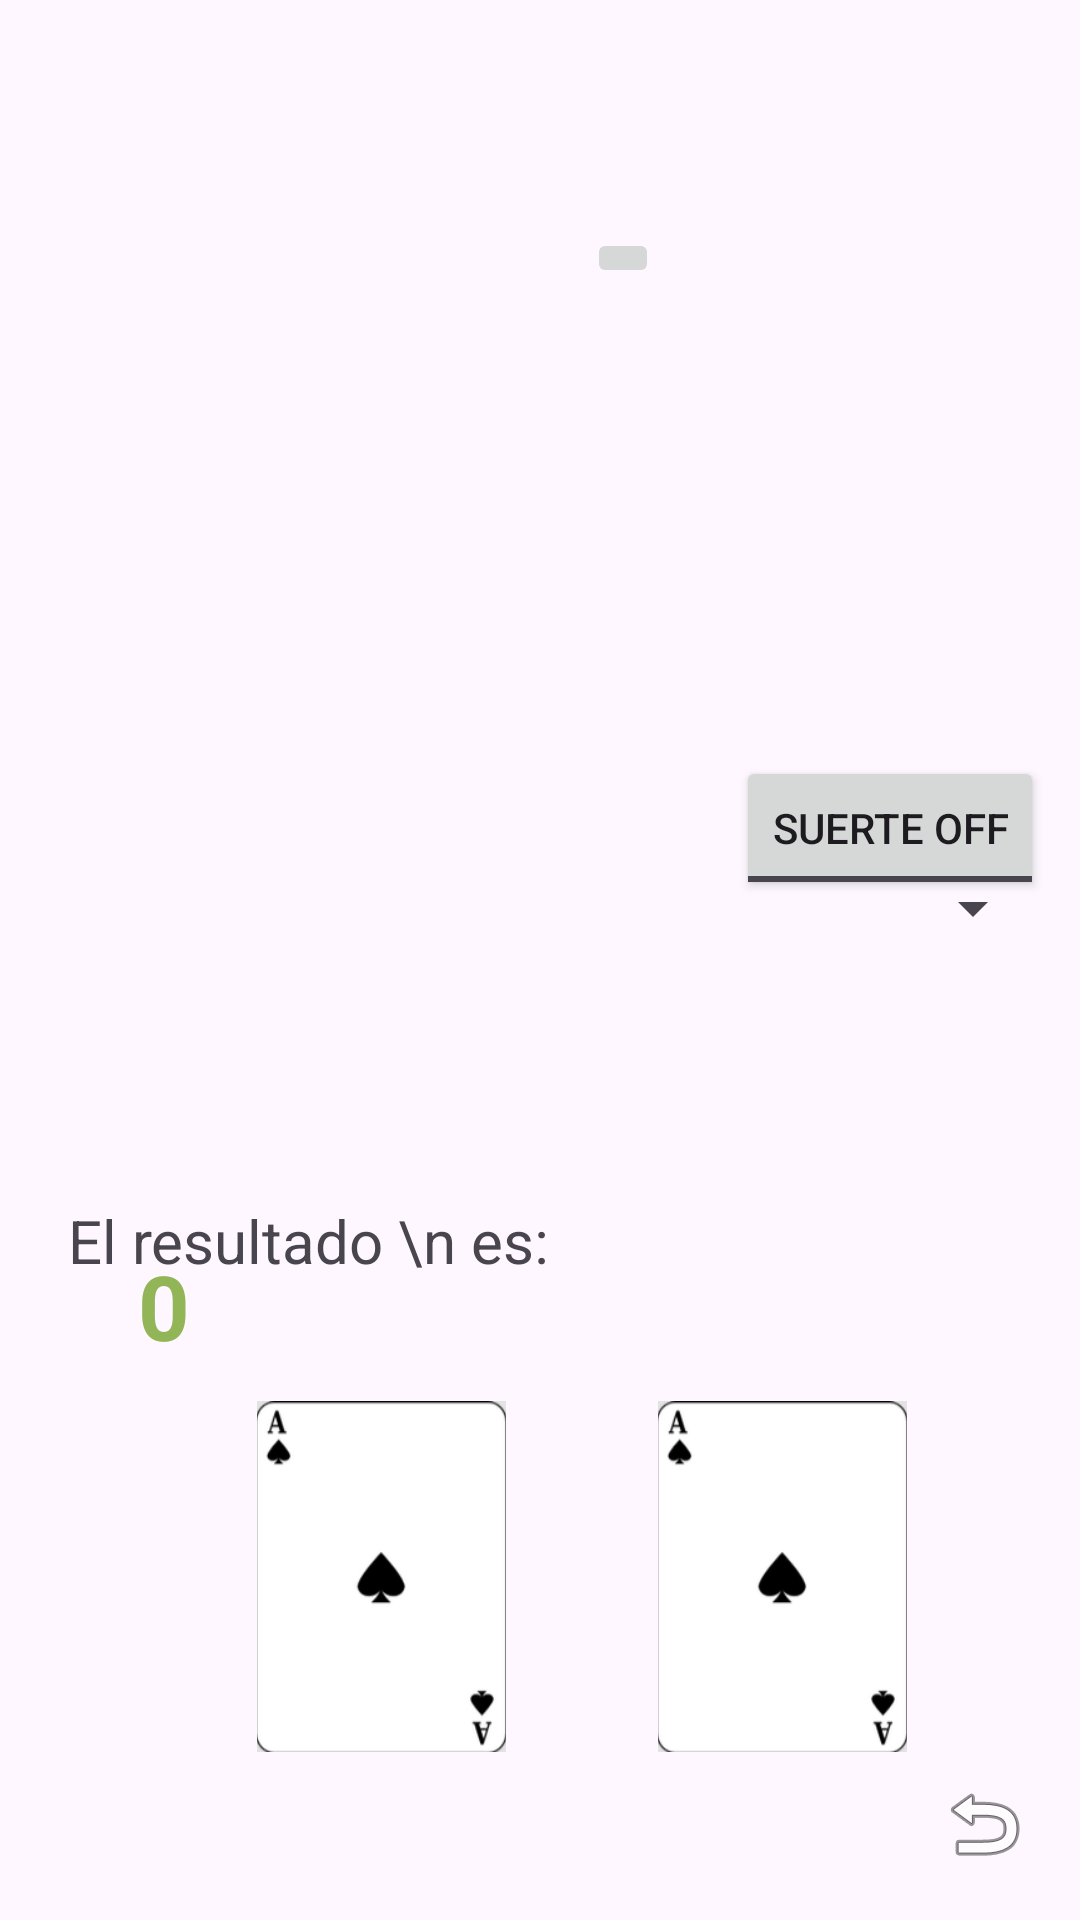

Named icons in this screenshot (1080px x 1920px) and their centers, (x,y):
pokeras: (381,1576), (782,1576)
revert: (985,1824)
